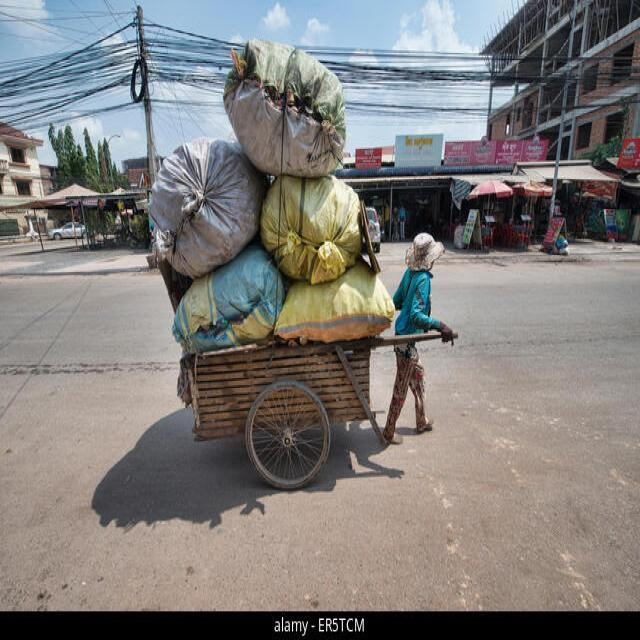trash: (131, 46, 383, 342)
